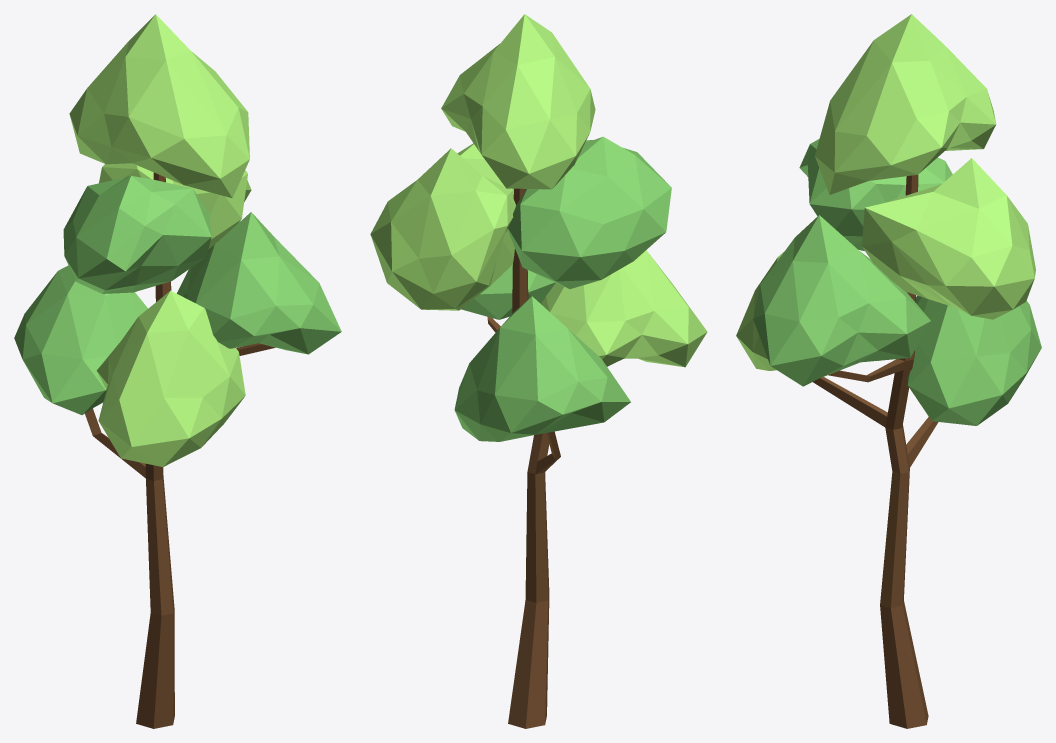
Rendered from Tree_Type4_4.fbx.
The picture shows the model from 3 angles, left to right: view 1: azimuth 30°, elevation 25°; view 2: azimuth 150°, elevation 25°; view 3: azimuth 270°, elevation 25°; orthographic projection.
Visible parts, largest first — view 1: Tree_Type4_4; view 2: Tree_Type4_4; view 3: Tree_Type4_4.
Part boxes in pixels (x1,y1,x2,y2): Tree_Type4_4: (14,14,341,728); Tree_Type4_4: (370,14,707,728); Tree_Type4_4: (736,14,1041,728).
Bounding box in the file's own units: 245 × 704 × 276.
